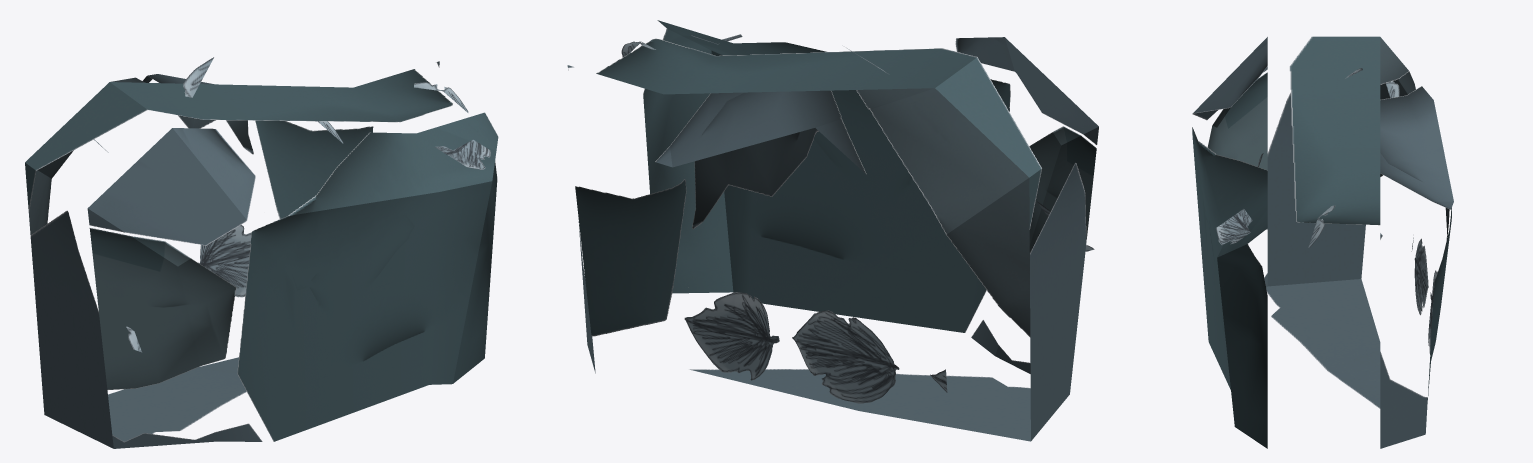
File: Bush_withAnimation&Texture.FBX
The picture shows the model from 3 angles, left to right: view 1: azimuth 30°, elevation 25°; view 2: azimuth 150°, elevation 25°; view 3: azimuth 270°, elevation 25°; orthographic projection. The views are drawn at different scales.
Parts seen in each view (by area): view 1: Bush; view 2: Bush; view 3: Bush.
Boxes of the visible parts, x1,y1,x2,y2 form: Bush: (25, 57, 498, 448); Bush: (567, 20, 1098, 441); Bush: (1192, 36, 1453, 448).
Size of the model in its own units: 2.68 by 1.86 by 1.78.
Materials: 1 (1 with a texture image).
